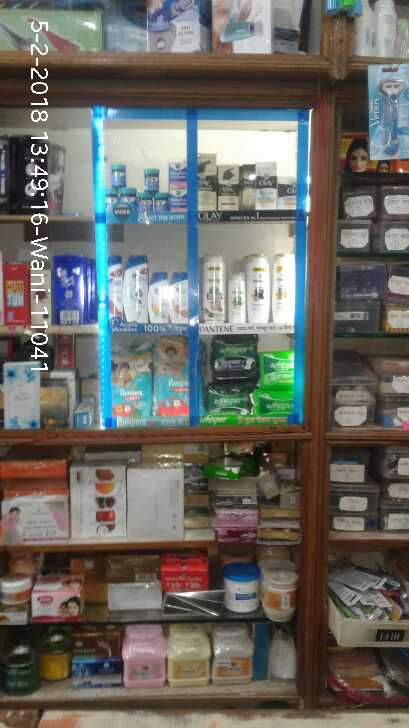beauty: (123, 249, 148, 325), (246, 256, 270, 327), (272, 254, 295, 328), (201, 255, 223, 319), (251, 164, 278, 211), (149, 264, 168, 327), (196, 154, 216, 208), (171, 273, 188, 332), (227, 274, 246, 326), (217, 165, 238, 211), (108, 255, 122, 322)
pharmacy: (110, 349, 152, 421), (155, 340, 191, 419), (211, 333, 259, 383), (201, 385, 255, 417), (257, 349, 297, 385), (253, 389, 297, 418), (106, 159, 127, 189), (169, 161, 187, 192), (143, 169, 162, 192), (152, 193, 168, 217), (170, 191, 188, 211), (138, 194, 149, 215)
